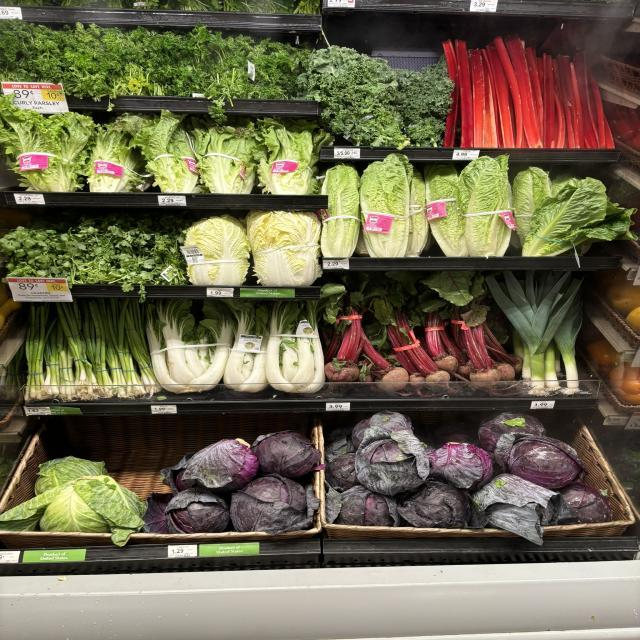Cabbage: (468, 474, 558, 545), (230, 474, 318, 535), (493, 432, 585, 489), (355, 428, 430, 496), (182, 439, 258, 492), (398, 481, 470, 529), (252, 431, 322, 478), (428, 442, 493, 490), (165, 488, 230, 534), (478, 411, 547, 454), (335, 485, 395, 526), (558, 482, 613, 524), (353, 411, 412, 446), (325, 452, 360, 490)
Lettuce: (512, 168, 637, 256), (0, 475, 147, 546), (0, 96, 95, 191), (458, 155, 517, 257), (257, 118, 333, 195), (247, 211, 322, 286), (360, 154, 413, 258), (133, 110, 198, 194), (87, 114, 150, 192), (182, 215, 250, 286), (193, 121, 257, 194), (423, 164, 468, 256), (320, 164, 360, 258), (35, 456, 108, 494), (405, 169, 430, 258)
